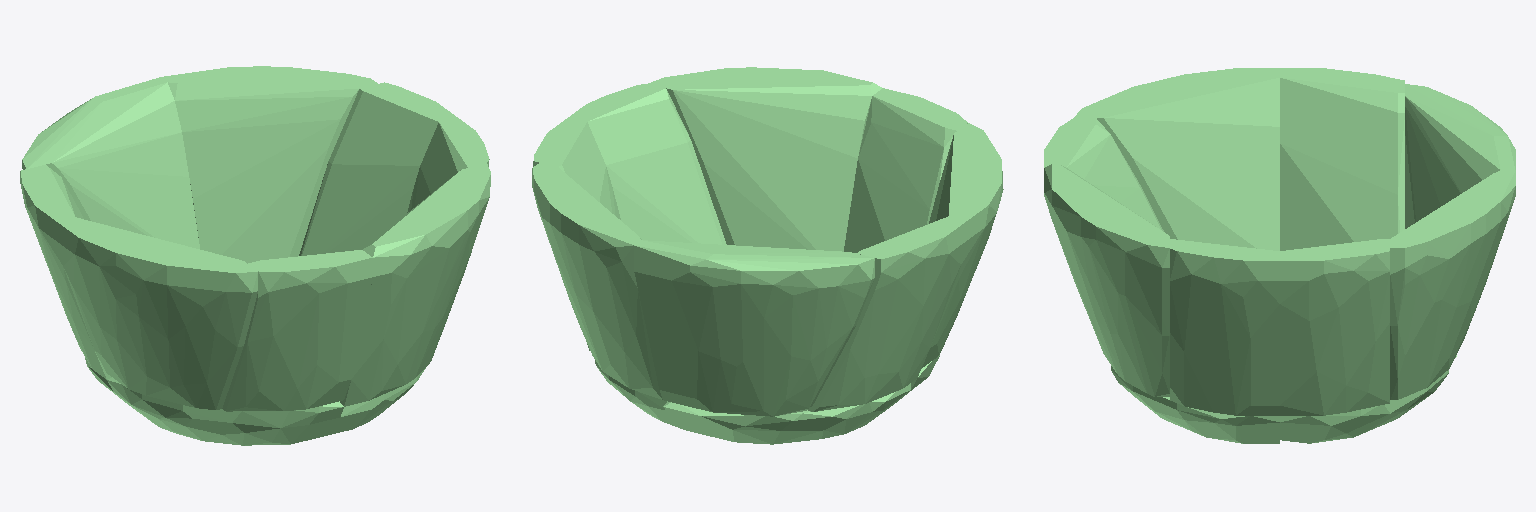
URDF robot description (model):
<?xml version="1.0" ?>

<robot name="model">

  <material name="color">
    <color rgba="0.68 0.93 0.68 1.00"/>
  </material>

  <link name="base_link">

    <contact>
      <lateral_friction value="1.0"/>
      <rolling_friction value="0.001"/>
      <spinning_friction value="0.001"/>
      <inertia_scaling value="1.0"/>
    </contact>

    <inertial>
      <origin rpy="0 0 0" xyz="0.000693541 0.000162901 0.039516"/>
       <mass value="0.1"/>
       <inertia ixx="1" ixy="0" ixz="0" iyy="1" iyz="0" izz="1"/>
    </inertial>

    <visual>
      <origin rpy="0 0 0" xyz="0 0 0"/>
      <geometry>
        <mesh filename="model_vhacd_0_of_12.obj" scale="1 1 1"/>
      </geometry>
      <material name="color"/>
    </visual>
    <visual>
      <origin rpy="0 0 0" xyz="0 0 0"/>
      <geometry>
        <mesh filename="model_vhacd_1_of_12.obj" scale="1 1 1"/>
      </geometry>
      <material name="color"/>
    </visual>
    <visual>
      <origin rpy="0 0 0" xyz="0 0 0"/>
      <geometry>
        <mesh filename="model_vhacd_2_of_12.obj" scale="1 1 1"/>
      </geometry>
      <material name="color"/>
    </visual>
    <visual>
      <origin rpy="0 0 0" xyz="0 0 0"/>
      <geometry>
        <mesh filename="model_vhacd_3_of_12.obj" scale="1 1 1"/>
      </geometry>
      <material name="color"/>
    </visual>
    <visual>
      <origin rpy="0 0 0" xyz="0 0 0"/>
      <geometry>
        <mesh filename="model_vhacd_4_of_12.obj" scale="1 1 1"/>
      </geometry>
      <material name="color"/>
    </visual>
    <visual>
      <origin rpy="0 0 0" xyz="0 0 0"/>
      <geometry>
        <mesh filename="model_vhacd_5_of_12.obj" scale="1 1 1"/>
      </geometry>
      <material name="color"/>
    </visual>
    <visual>
      <origin rpy="0 0 0" xyz="0 0 0"/>
      <geometry>
        <mesh filename="model_vhacd_6_of_12.obj" scale="1 1 1"/>
      </geometry>
      <material name="color"/>
    </visual>
    <visual>
      <origin rpy="0 0 0" xyz="0 0 0"/>
      <geometry>
        <mesh filename="model_vhacd_7_of_12.obj" scale="1 1 1"/>
      </geometry>
      <material name="color"/>
    </visual>
    <visual>
      <origin rpy="0 0 0" xyz="0 0 0"/>
      <geometry>
        <mesh filename="model_vhacd_8_of_12.obj" scale="1 1 1"/>
      </geometry>
      <material name="color"/>
    </visual>
    <visual>
      <origin rpy="0 0 0" xyz="0 0 0"/>
      <geometry>
        <mesh filename="model_vhacd_9_of_12.obj" scale="1 1 1"/>
      </geometry>
      <material name="color"/>
    </visual>
    <visual>
      <origin rpy="0 0 0" xyz="0 0 0"/>
      <geometry>
        <mesh filename="model_vhacd_10_of_12.obj" scale="1 1 1"/>
      </geometry>
      <material name="color"/>
    </visual>
    <visual>
      <origin rpy="0 0 0" xyz="0 0 0"/>
      <geometry>
        <mesh filename="model_vhacd_11_of_12.obj" scale="1 1 1"/>
      </geometry>
      <material name="color"/>
    </visual>

    <collision>
      <origin rpy="0 0 0" xyz="0 0 0"/>
      <geometry>
        <mesh filename="model_vhacd_0_of_12.obj" scale="1 1 1"/>
      </geometry>
    </collision>
    <collision>
      <origin rpy="0 0 0" xyz="0 0 0"/>
      <geometry>
        <mesh filename="model_vhacd_1_of_12.obj" scale="1 1 1"/>
      </geometry>
    </collision>
    <collision>
      <origin rpy="0 0 0" xyz="0 0 0"/>
      <geometry>
        <mesh filename="model_vhacd_2_of_12.obj" scale="1 1 1"/>
      </geometry>
    </collision>
    <collision>
      <origin rpy="0 0 0" xyz="0 0 0"/>
      <geometry>
        <mesh filename="model_vhacd_3_of_12.obj" scale="1 1 1"/>
      </geometry>
    </collision>
    <collision>
      <origin rpy="0 0 0" xyz="0 0 0"/>
      <geometry>
        <mesh filename="model_vhacd_4_of_12.obj" scale="1 1 1"/>
      </geometry>
    </collision>
    <collision>
      <origin rpy="0 0 0" xyz="0 0 0"/>
      <geometry>
        <mesh filename="model_vhacd_5_of_12.obj" scale="1 1 1"/>
      </geometry>
    </collision>
    <collision>
      <origin rpy="0 0 0" xyz="0 0 0"/>
      <geometry>
        <mesh filename="model_vhacd_6_of_12.obj" scale="1 1 1"/>
      </geometry>
    </collision>
    <collision>
      <origin rpy="0 0 0" xyz="0 0 0"/>
      <geometry>
        <mesh filename="model_vhacd_7_of_12.obj" scale="1 1 1"/>
      </geometry>
    </collision>
    <collision>
      <origin rpy="0 0 0" xyz="0 0 0"/>
      <geometry>
        <mesh filename="model_vhacd_8_of_12.obj" scale="1 1 1"/>
      </geometry>
    </collision>
    <collision>
      <origin rpy="0 0 0" xyz="0 0 0"/>
      <geometry>
        <mesh filename="model_vhacd_9_of_12.obj" scale="1 1 1"/>
      </geometry>
    </collision>
    <collision>
      <origin rpy="0 0 0" xyz="0 0 0"/>
      <geometry>
        <mesh filename="model_vhacd_10_of_12.obj" scale="1 1 1"/>
      </geometry>
    </collision>
    <collision>
      <origin rpy="0 0 0" xyz="0 0 0"/>
      <geometry>
        <mesh filename="model_vhacd_11_of_12.obj" scale="1 1 1"/>
      </geometry>
    </collision>

  </link>

</robot>

--- Render facts (derived) ---
The picture shows the robot from 3 angles, left to right: view 1: azimuth 30°, elevation 25°; view 2: azimuth 150°, elevation 25°; view 3: azimuth 270°, elevation 25°; orthographic projection.
Robot: model — 1 links, 0 joints (none); root link base_link; default pose: all joints at 0.
Links seen in each view (by area): view 1: base_link; view 2: base_link; view 3: base_link.
Boxes of the visible links, x1,y1,x2,y2 form: base_link: (20,66,490,445); base_link: (532,67,1003,444); base_link: (1044,68,1515,443).
Size in the robot's own frame: 0.1597 by 0.1597 by 0.0848 metres.
Meshes: 12 distinct files referenced, 12 mesh visuals loaded (12 OBJ).